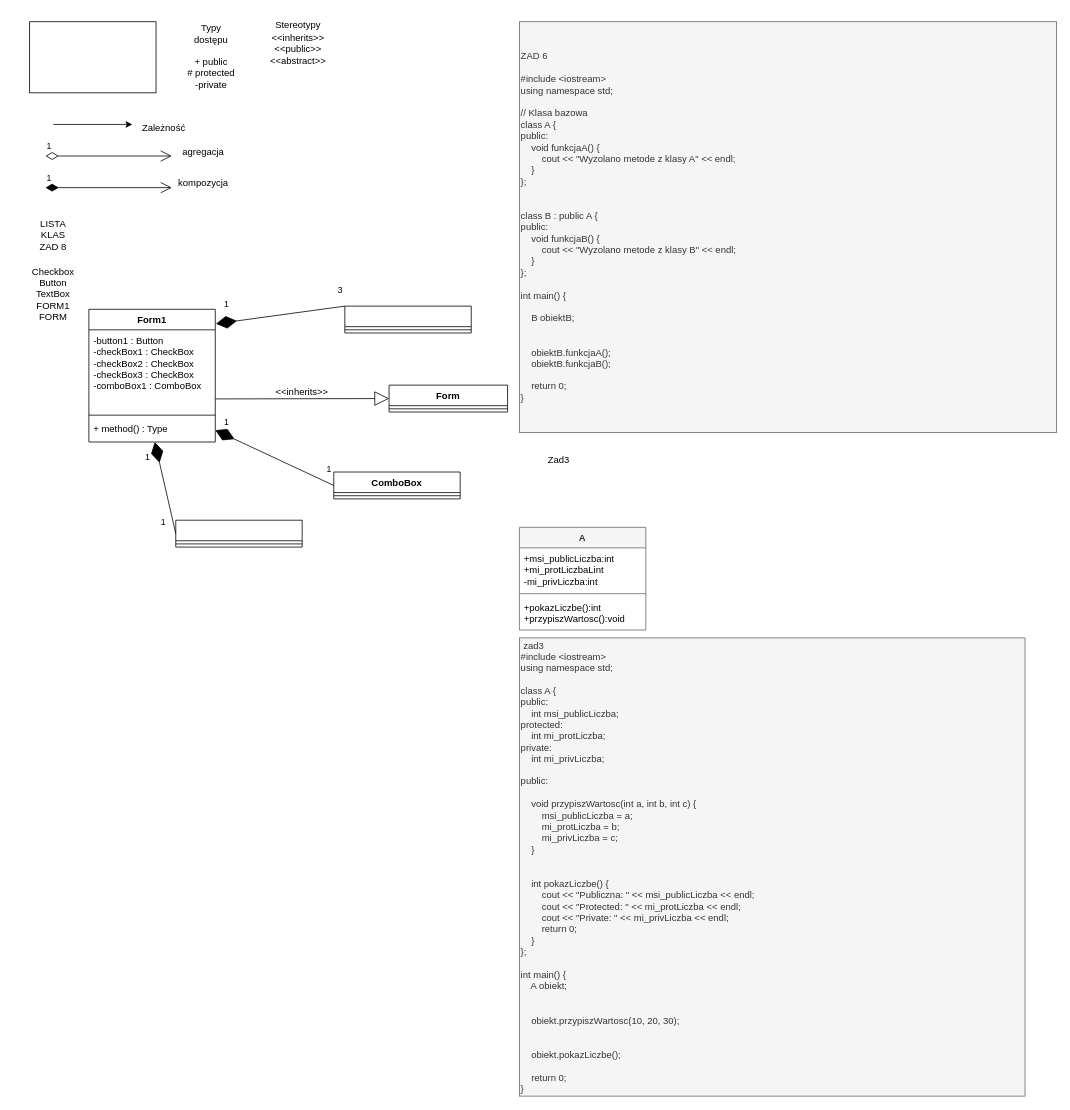
Image size: 1070x1110. Some labels were removed from this diagram. The shapes that lost their labels are listed below. From the top down, each one's box as (x1, y1, x2, y2) in pixels, then its label:
(29, 21, 156, 93): Nazwa +Nazwa atrybutu:typ + nazwametody(); zwracany typ
(344, 305, 471, 333): CheckBox
(175, 519, 302, 547): Button
